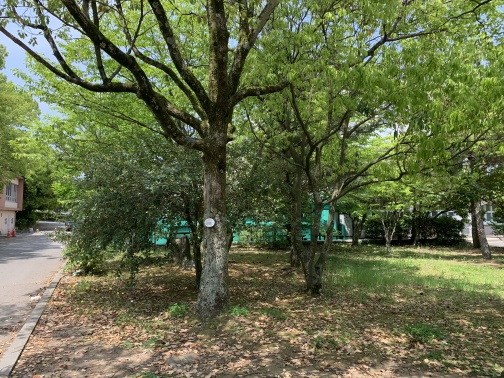Ara Hall: (134, 172, 370, 249)
